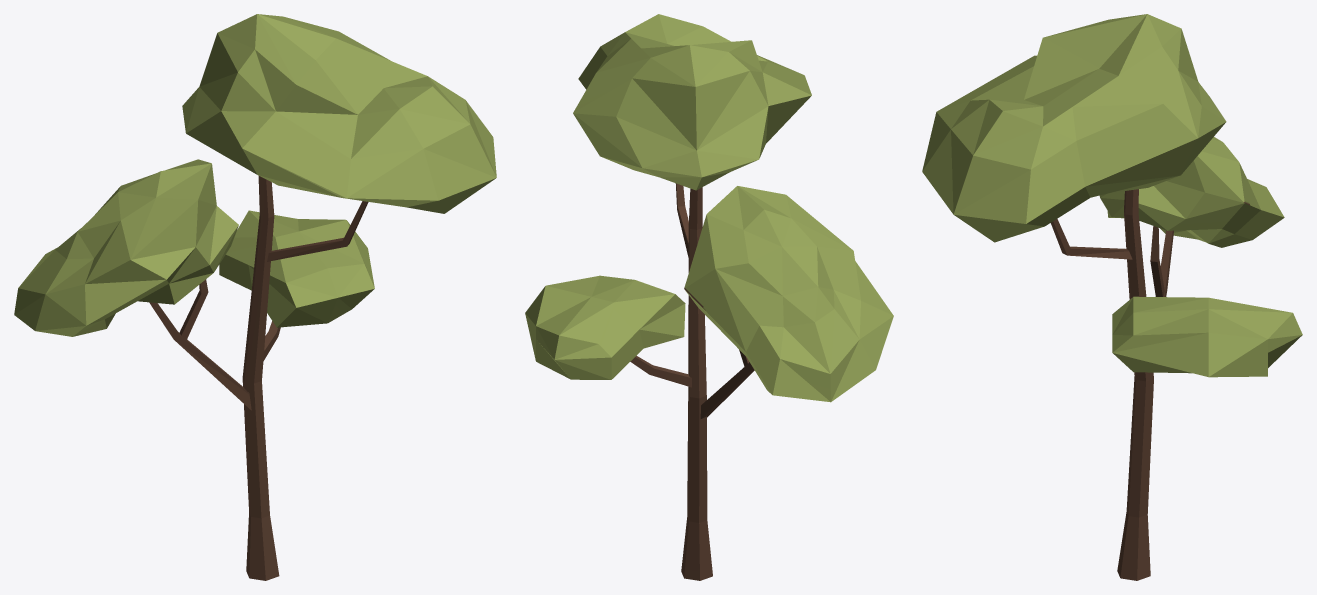
File: tree4.glb
The picture shows the model from 3 angles, left to right: view 1: azimuth 30°, elevation 25°; view 2: azimuth 150°, elevation 25°; view 3: azimuth 270°, elevation 25°; orthographic projection. The views are drawn at different scales.
Parts seen in each view (by area): view 1: tree14; view 2: tree14; view 3: tree14.
Part boxes in pixels (x1,y1,x2,y2): tree14: (14,14,496,580); tree14: (525,14,893,580); tree14: (922,14,1302,580).
Bounding box in the file's own units: 3.56 × 4.92 × 3.03.
Materials: 1 (1 with a texture image).
